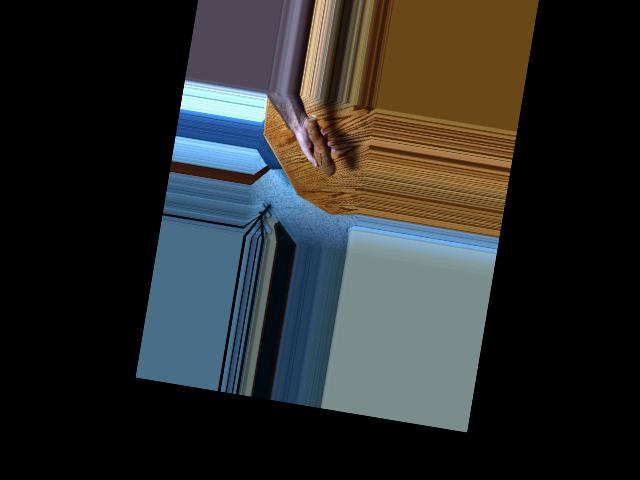sweet_potato: (294, 112, 344, 179)
